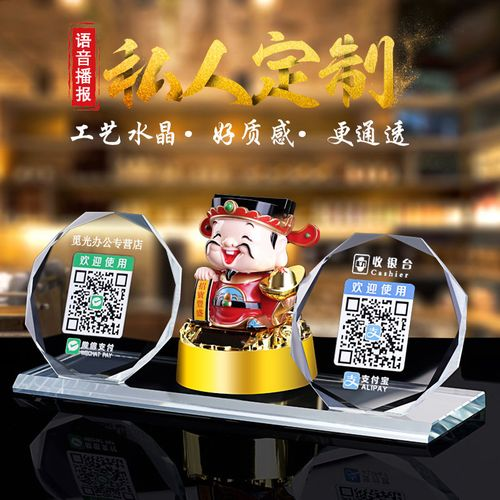QRCode: (336, 295, 410, 372), (64, 268, 130, 336)
